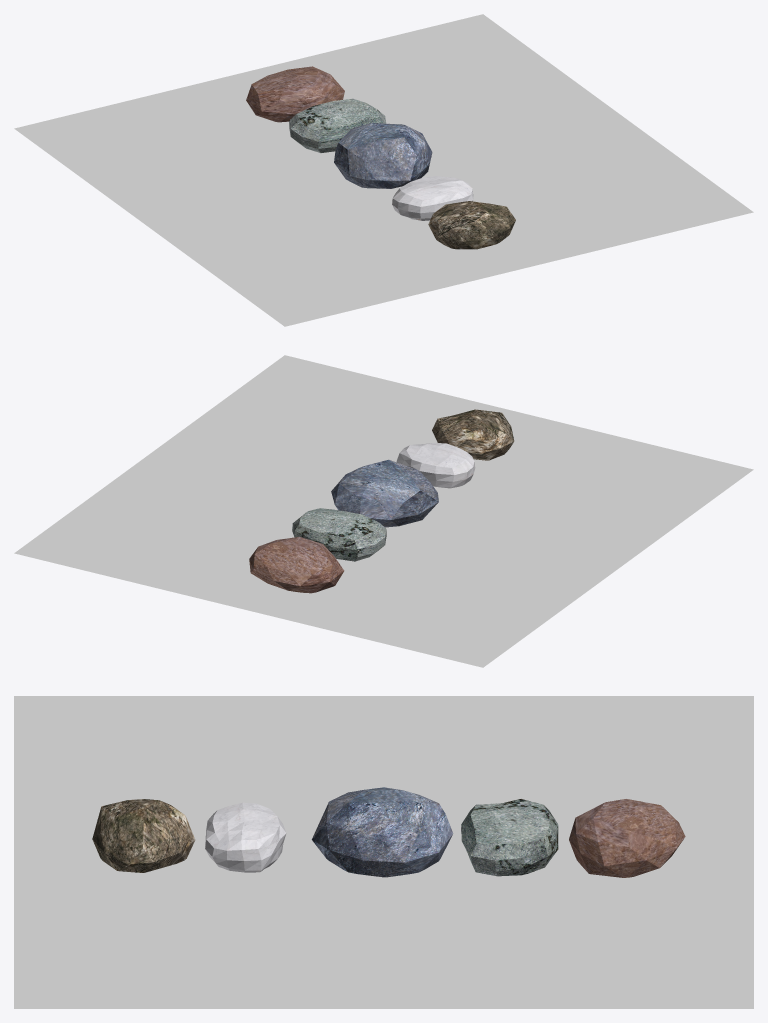
File: RockSet.obj
3 renders of one model, top to bottom at view 1: azimuth 30°, elevation 25°; view 2: azimuth 150°, elevation 25°; view 3: azimuth 270°, elevation 25°, orthographic. The views are drawn at different scales.
Parts seen in each view (by area): view 1: Plane_Plane.001, Icosphere, Icosphere.001, Icosphere.002, Cube_Cube.001, Cube.001_Cube.002; view 2: Plane_Plane.001, Icosphere, Icosphere.001, Cube_Cube.001, Icosphere.002, Cube.001_Cube.002; view 3: Plane_Plane.001, Icosphere, Icosphere.001, Cube_Cube.001, Icosphere.002, Cube.001_Cube.002.
Boxes of the visible parts, <box> form: Plane_Plane.001: <box>14,14,753,326</box>; Icosphere: <box>334,123,432,188</box>; Icosphere.001: <box>246,66,344,122</box>; Icosphere.002: <box>428,201,515,249</box>; Cube_Cube.001: <box>289,98,386,152</box>; Cube.001_Cube.002: <box>392,176,473,220</box>; Plane_Plane.001: <box>14,355,753,667</box>; Icosphere: <box>331,459,438,527</box>; Icosphere.001: <box>249,537,344,593</box>; Cube_Cube.001: <box>292,508,386,561</box>; Icosphere.002: <box>432,409,514,460</box>; Cube.001_Cube.002: <box>396,443,475,488</box>; Plane_Plane.001: <box>14,696,753,1008</box>; Icosphere: <box>311,787,453,877</box>; Icosphere.001: <box>569,799,685,877</box>; Cube_Cube.001: <box>461,799,558,876</box>; Icosphere.002: <box>92,799,195,872</box>; Cube.001_Cube.002: <box>205,802,286,872</box>.
Size of the model in its own units: 15.89 by 1.62 by 15.89.
Materials: 6 (5 with a texture image).
